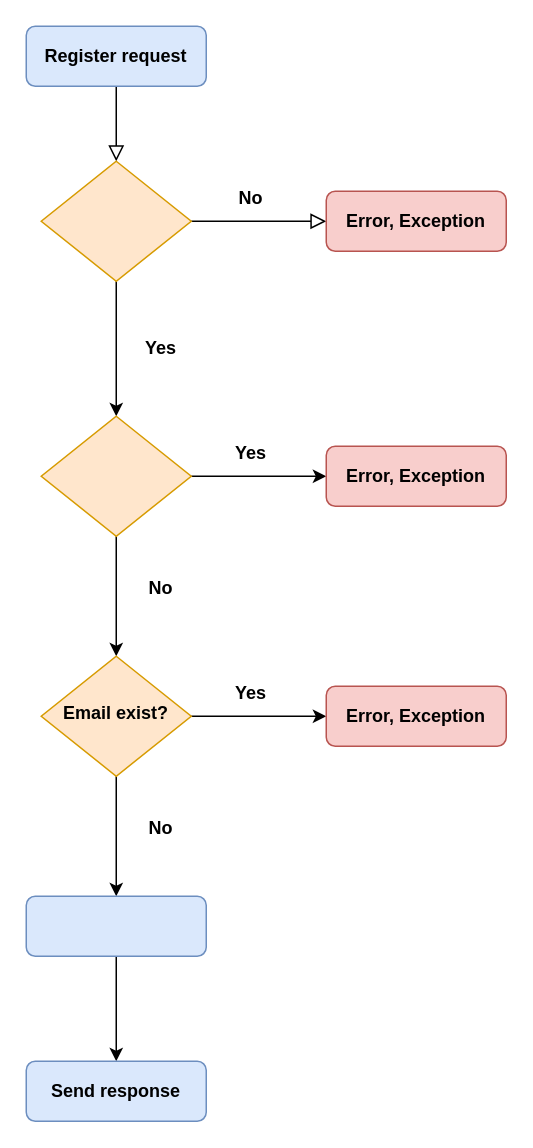
Image size: 533x1148. Some labels were removed from this diagram. The box of each missing label's shape, as (x1, y1, x2, y2) in pixels:
Body Valid?: (40, 160, 191, 281)
Hash password and save entity: (25, 895, 206, 956)
Username exist?: (40, 415, 191, 536)
